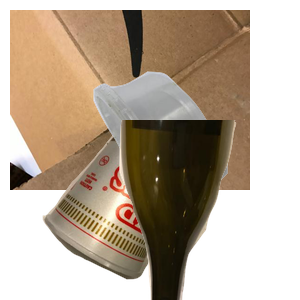cardboard: (10, 10, 250, 190)
glass: (117, 120, 300, 300)
plastic: (91, 69, 300, 249)
trash: (40, 121, 221, 300)
